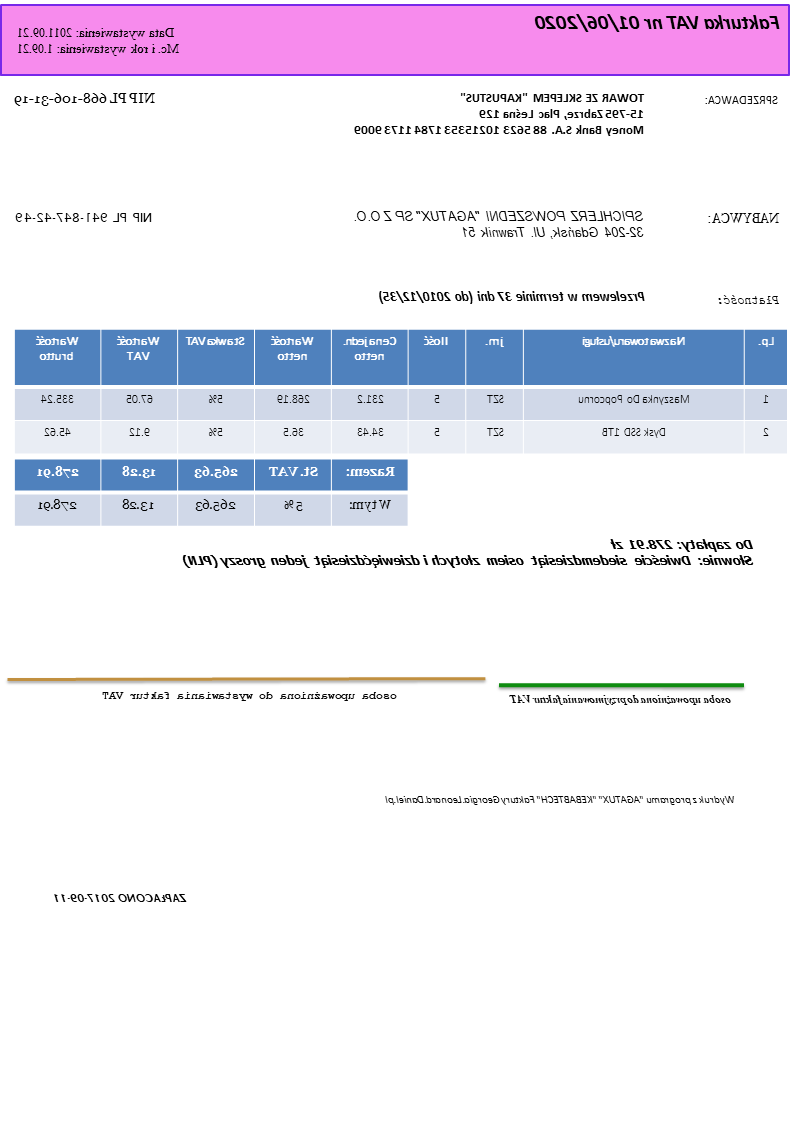Table: (13, 327, 789, 457), (13, 457, 409, 527)
TextBox: (180, 535, 756, 572), (354, 91, 648, 138), (350, 206, 647, 241), (16, 22, 184, 58), (533, 12, 782, 35), (383, 792, 736, 808), (378, 288, 648, 307), (100, 688, 399, 703), (508, 692, 733, 708), (13, 89, 159, 110), (13, 210, 154, 226), (52, 889, 189, 905), (706, 209, 782, 226), (704, 92, 781, 108), (717, 291, 781, 307)
